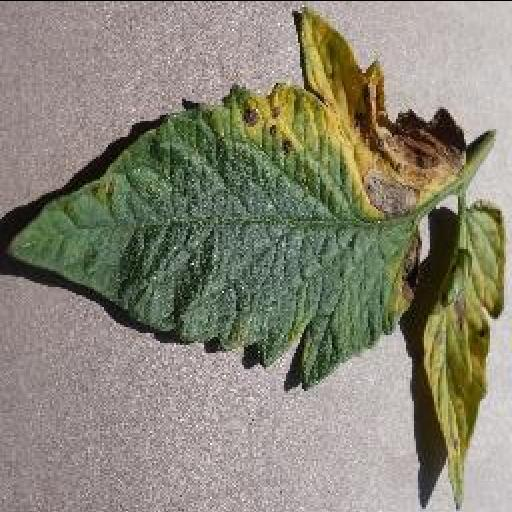disease_tomato: (2, 9, 458, 393)
